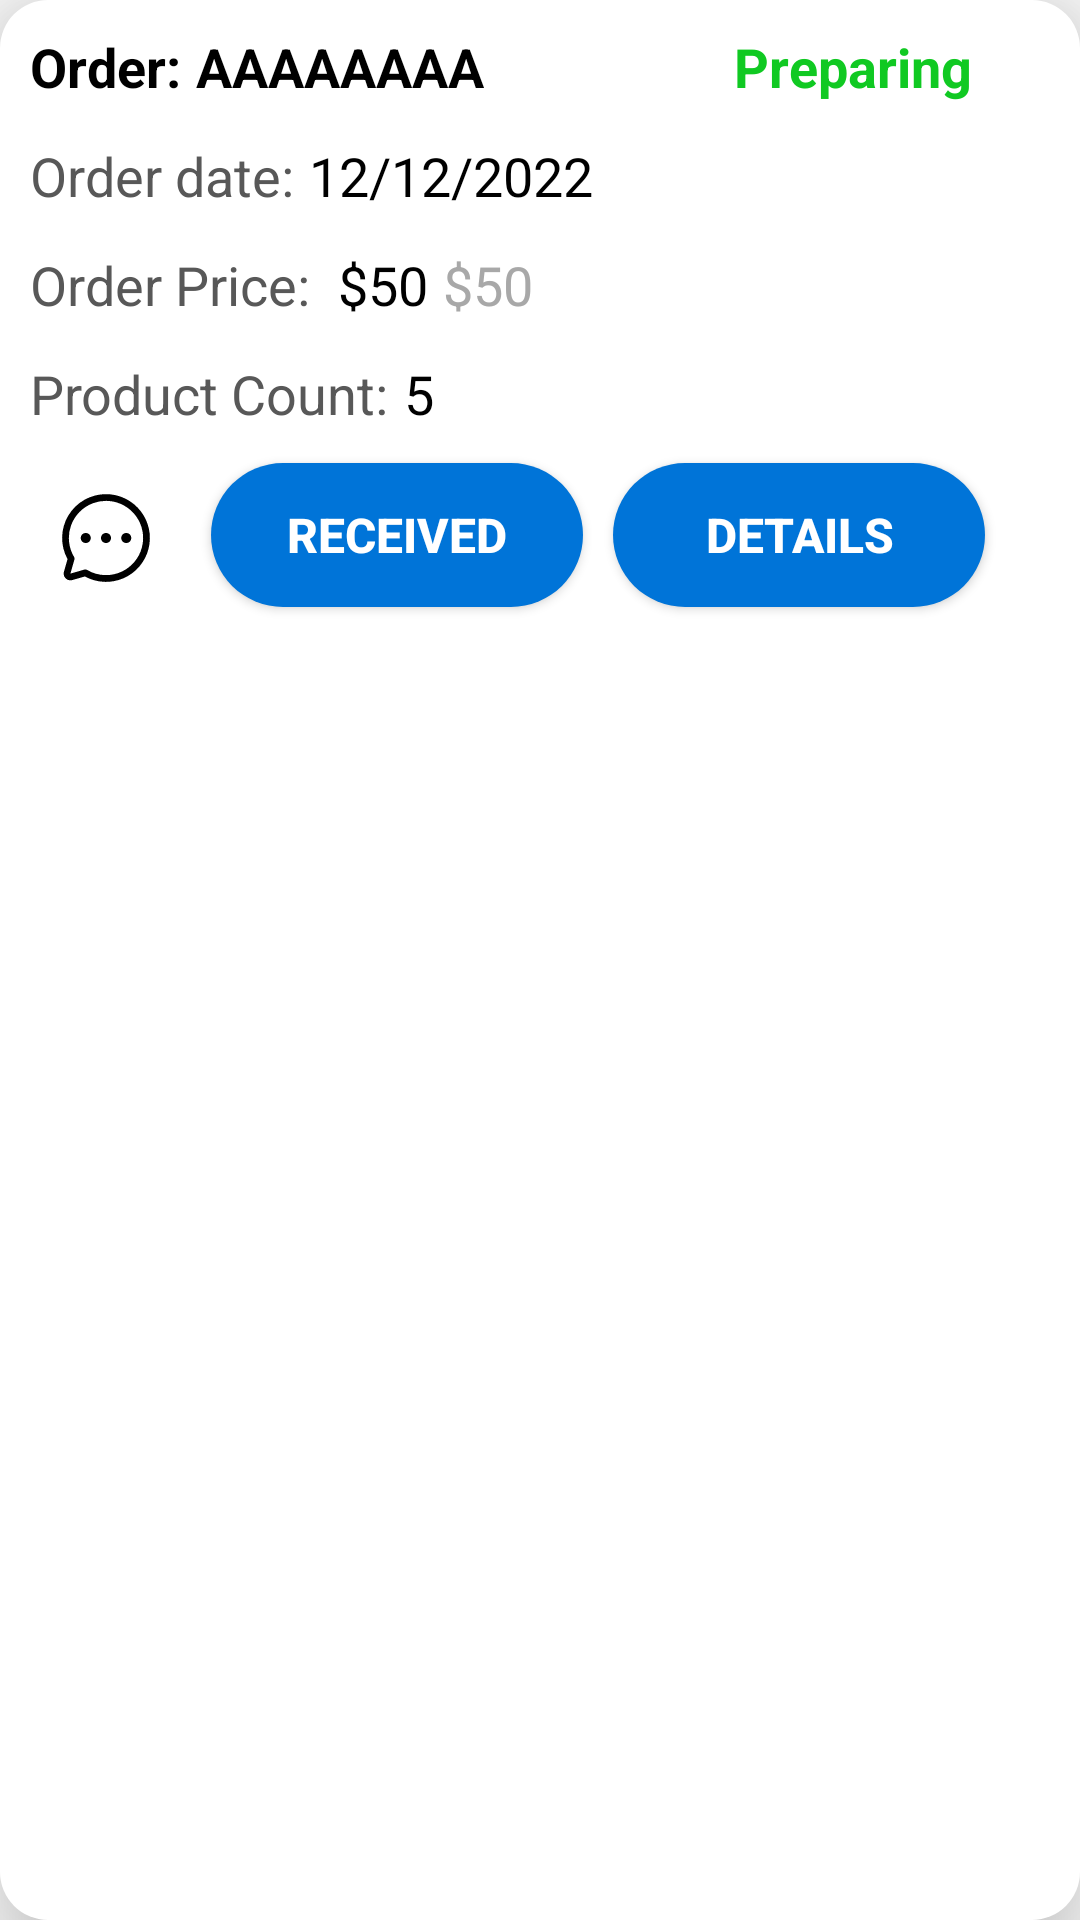

Named icons in this screenshot (1080×1920) and their centers, (x,y):
chat circle dots: (106,538)
